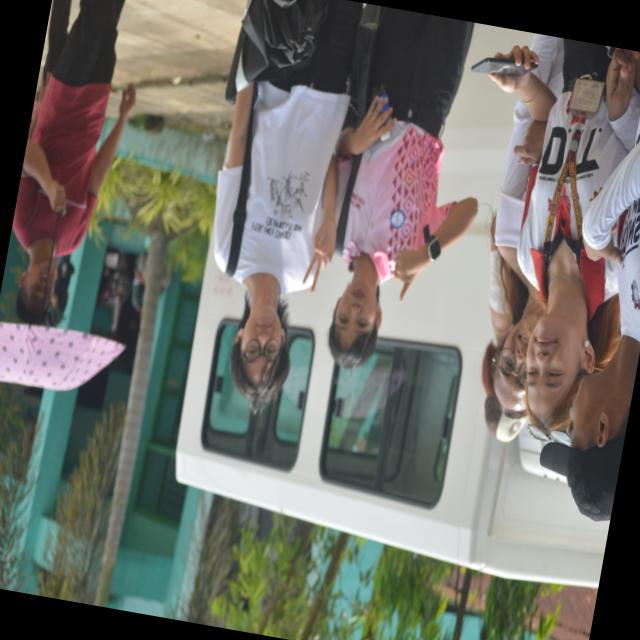person: (215, 0, 363, 411), (491, 39, 639, 433), (329, 7, 477, 367), (12, 0, 135, 322), (541, 124, 639, 520), (491, 100, 541, 418), (482, 217, 526, 442)
